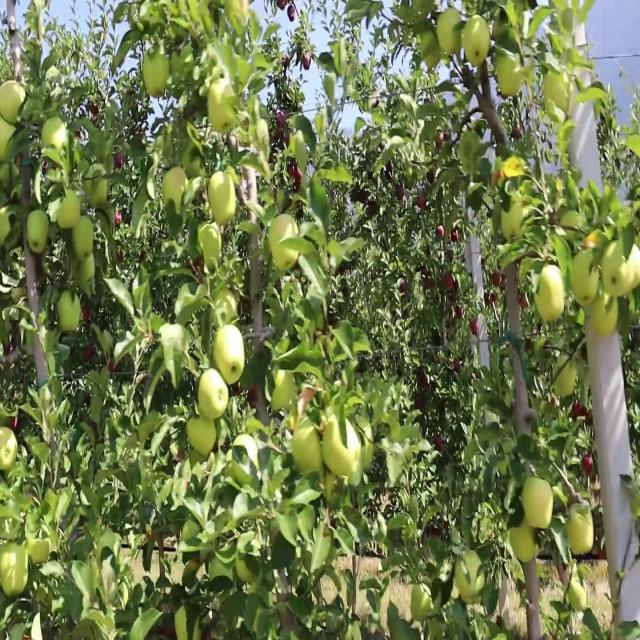apple: (324, 419, 361, 480), (292, 405, 323, 475), (604, 241, 640, 299), (536, 263, 567, 327), (208, 78, 239, 137), (196, 369, 229, 423), (524, 476, 555, 533), (208, 170, 238, 228), (272, 213, 299, 276), (216, 327, 245, 384), (572, 248, 600, 306), (292, 426, 324, 475), (544, 71, 574, 123), (456, 554, 487, 603), (464, 14, 492, 68), (144, 49, 171, 100), (592, 291, 620, 340), (436, 7, 463, 57), (508, 519, 538, 564), (232, 440, 259, 489), (4, 547, 29, 599), (496, 56, 524, 100), (188, 419, 218, 460), (568, 511, 595, 556), (44, 120, 67, 169), (56, 191, 81, 233), (272, 369, 296, 412), (0, 85, 26, 124), (164, 170, 188, 212), (28, 213, 51, 256), (420, 28, 442, 71), (200, 227, 223, 268), (72, 220, 96, 258), (84, 177, 109, 213), (224, 0, 250, 34), (216, 291, 240, 327), (60, 291, 80, 334), (412, 583, 433, 622), (28, 533, 52, 567), (184, 142, 204, 181), (480, 78, 498, 121), (556, 362, 577, 398), (0, 120, 16, 167), (624, 248, 640, 295), (76, 255, 96, 292), (424, 35, 443, 71), (4, 426, 18, 473), (420, 28, 439, 55), (0, 206, 12, 247), (364, 433, 375, 471), (168, 7, 181, 34), (0, 163, 13, 190), (292, 163, 304, 192), (584, 234, 603, 252), (584, 234, 604, 251), (248, 383, 259, 411), (476, 63, 490, 85), (420, 369, 429, 391), (8, 419, 21, 434), (444, 277, 456, 292), (304, 49, 312, 71), (436, 433, 444, 455), (400, 277, 408, 297), (116, 156, 124, 171), (416, 398, 424, 412)
